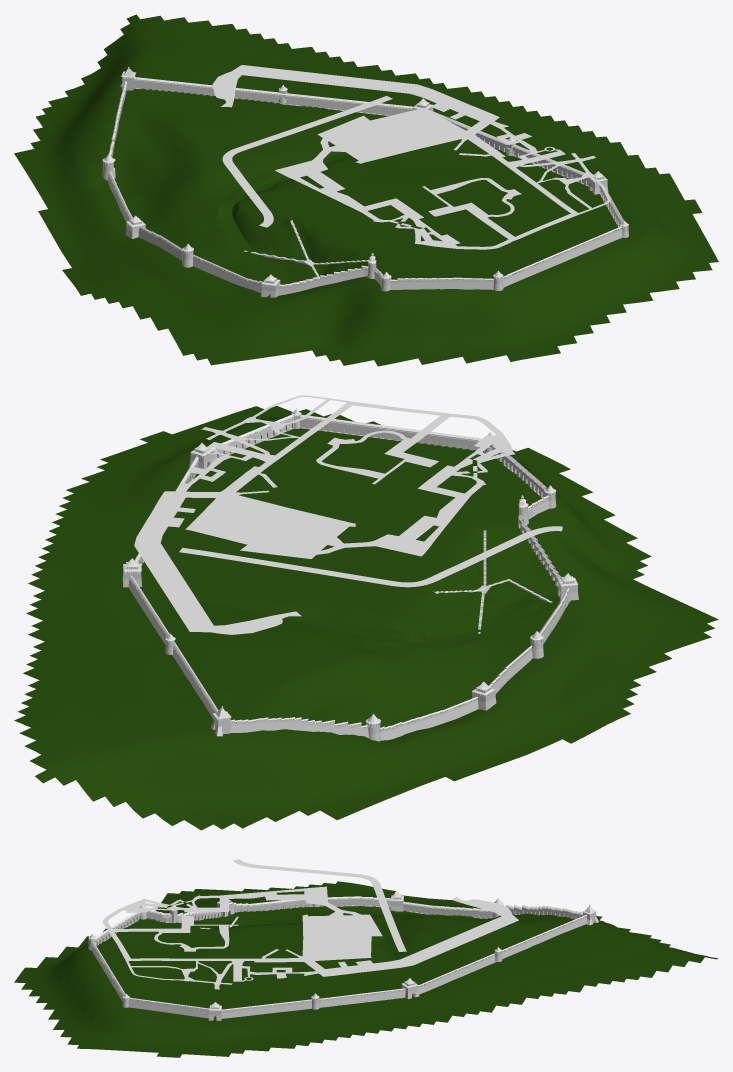
Rendered from kremlin.glb.
3 renders of one model, top to bottom at view 1: azimuth 30°, elevation 25°; view 2: azimuth 150°, elevation 25°; view 3: azimuth 270°, elevation 25°, orthographic. The views are drawn at different scales.
Visible parts, largest first — view 1: Terrain, Road 4, Walls, Road 3, Towers, Road 1; view 2: Terrain, Road 4, Walls, Road 3, Towers, Road 1, Stairs; view 3: Terrain, Road 4, Walls, Road 3, Towers, Road 1.
Part boxes in pixels (x1=…): Terrain: x1=14, y1=14, x2=718, y2=366; Road 4: x1=275, y1=107, x2=610, y2=249; Walls: x1=107, y1=77, x2=623, y2=295; Road 3: x1=212, y1=65, x2=490, y2=120; Towers: x1=102, y1=66, x2=628, y2=297; Road 1: x1=222, y1=96, x2=392, y2=227; Terrain: x1=14, y1=406, x2=718, y2=830; Road 4: x1=161, y1=395, x2=515, y2=558; Walls: x1=128, y1=414, x2=570, y2=740; Road 3: x1=134, y1=497, x2=301, y2=634; Towers: x1=122, y1=409, x2=578, y2=741; Road 1: x1=179, y1=526, x2=562, y2=587; Stairs: x1=433, y1=530, x2=552, y2=633; Terrain: x1=14, y1=881, x2=718, y2=1057; Road 4: x1=102, y1=886, x2=382, y2=989; Walls: x1=91, y1=896, x2=587, y2=1018; Road 3: x1=325, y1=896, x2=518, y2=975; Towers: x1=88, y1=892, x2=598, y2=1020; Road 1: x1=233, y1=859, x2=406, y2=951.
Bounding box in the file's own units: 3182 × 516 × 4489.
